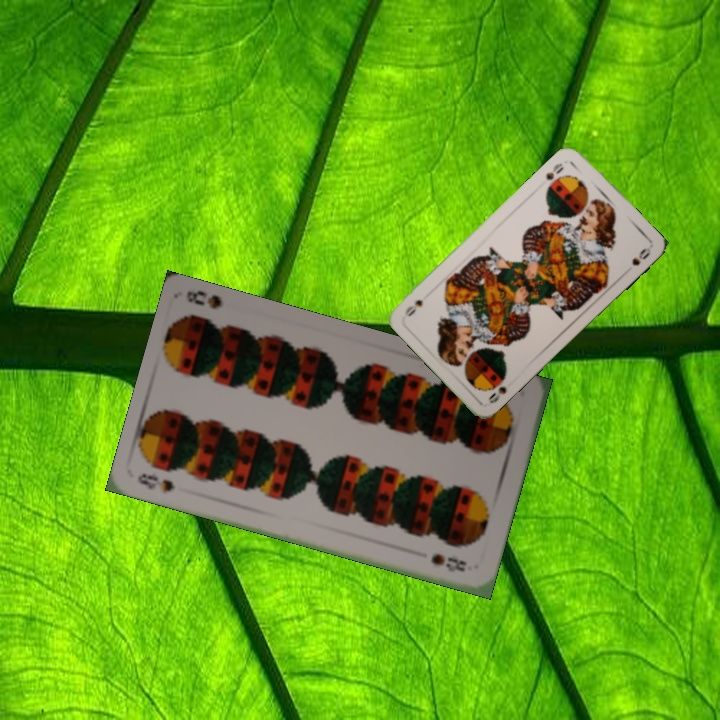S8: (133, 469, 177, 496)
SO: (484, 382, 509, 406), (542, 159, 566, 183)
